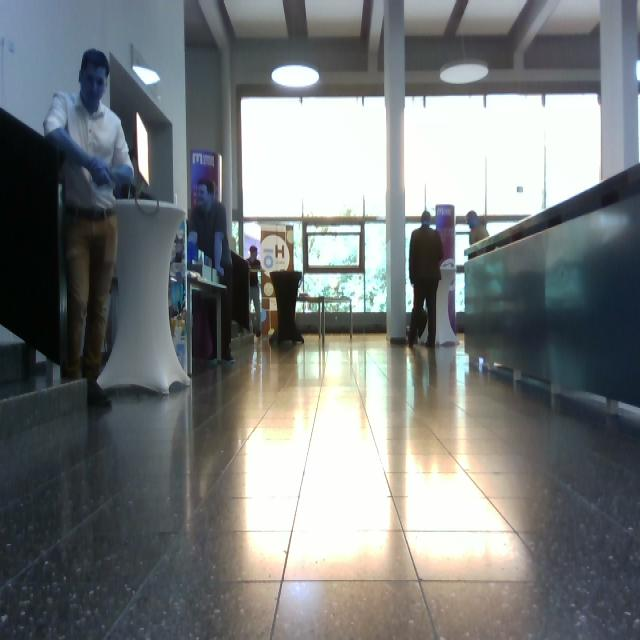light bulb: (271, 64, 320, 89), (440, 60, 489, 85), (132, 65, 160, 86)
person: (43, 49, 135, 406), (189, 178, 235, 364), (408, 210, 444, 348)
pillar: (97, 196, 191, 394), (383, 1, 408, 345), (435, 204, 459, 346)
staircase: (461, 162, 640, 425)
tiled floor: (1, 329, 639, 638)
window: (240, 92, 388, 318)
